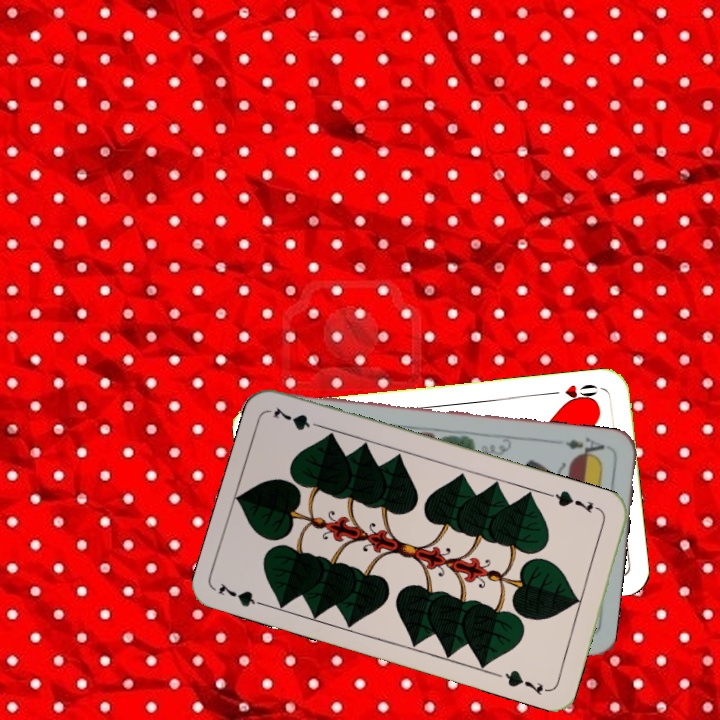EA: (562, 433, 607, 461)
G7: (214, 579, 272, 610), (547, 486, 605, 516)
HO: (545, 380, 600, 406)
